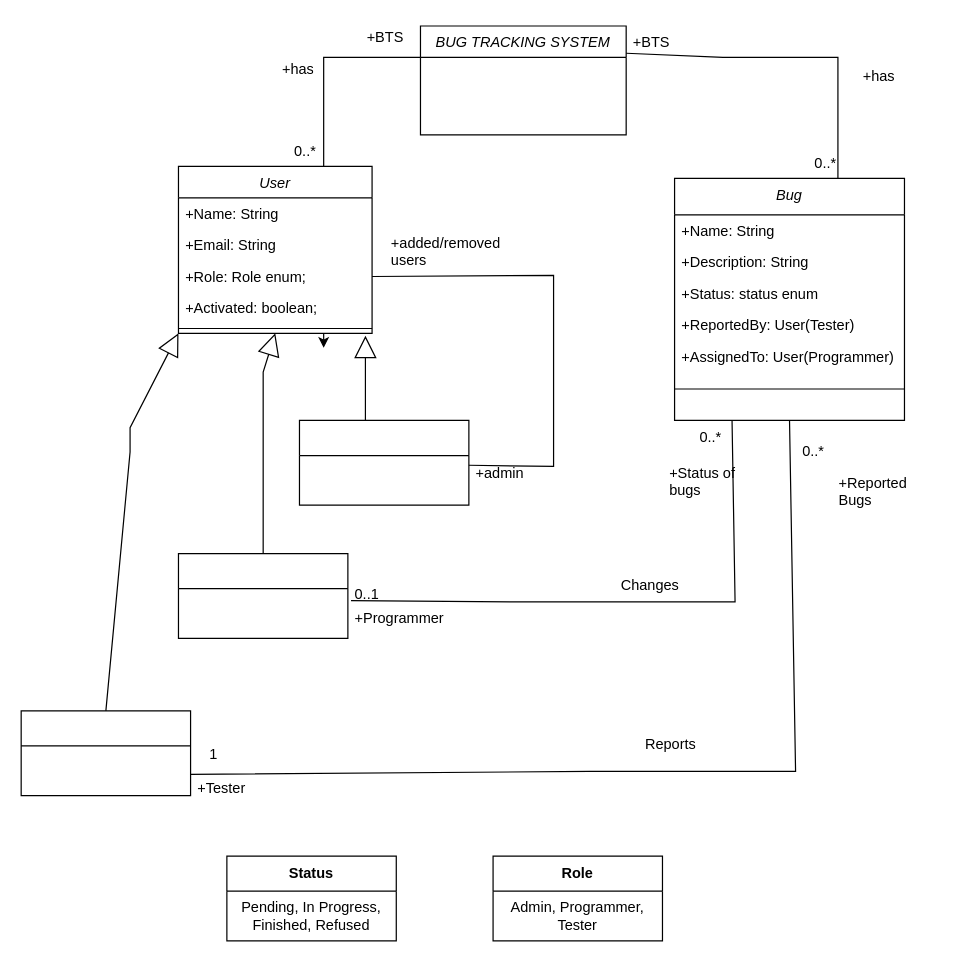
This 974x962 diagram has some shape labels left out. The shapes that lost their labels are listed below. From the top down, each one's centre as x and y in pixels, then its label:
(x=383, y=462): Admin
(x=262, y=595): Programmer
(x=105, y=753): Tester
